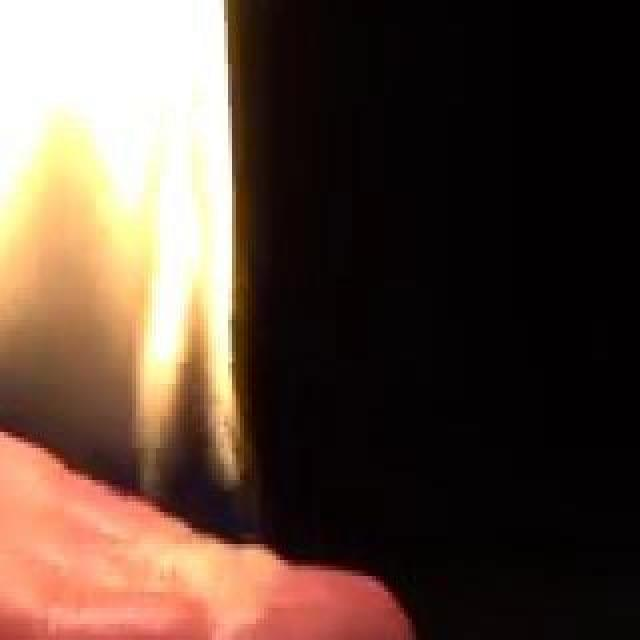fire: (10, 0, 222, 538)
